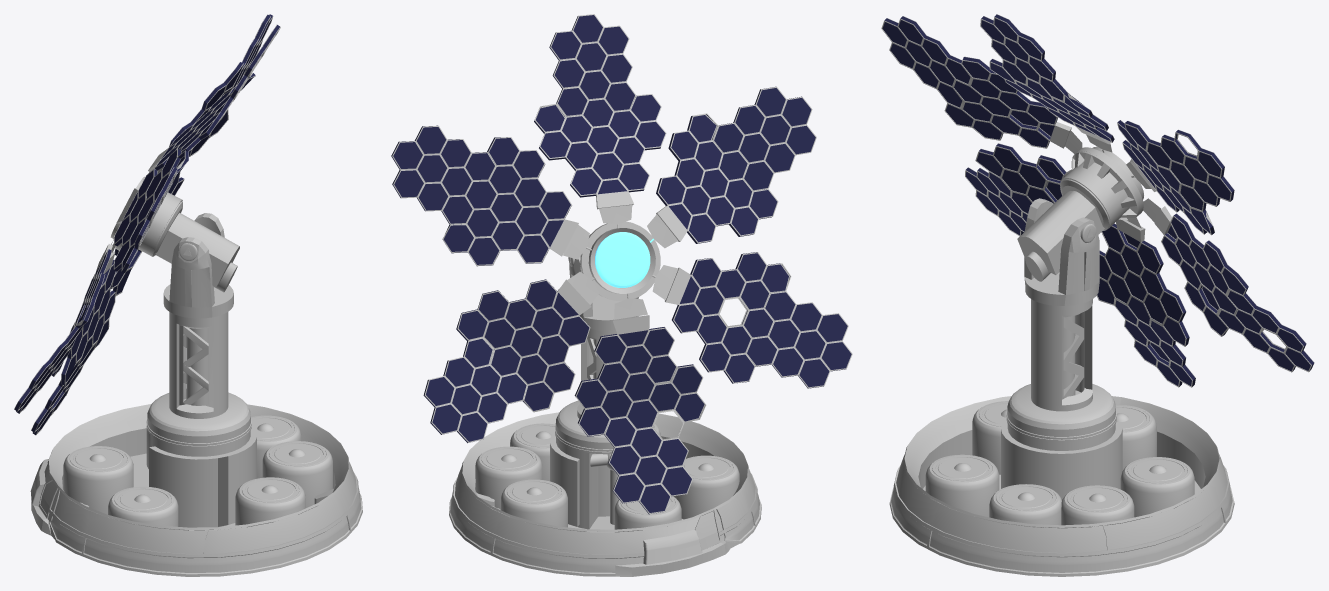
The model's file is energias.glb.
3 views of the same model, side by side, from view 1: azimuth 30°, elevation 25°; view 2: azimuth 150°, elevation 25°; view 3: azimuth 270°, elevation 25° (orthographic). The views are drawn at different scales.
Visible parts, largest first — view 1: Cylinder.014; view 2: Cylinder.014; view 3: Cylinder.014.
Boxes of the visible parts, x1=… form: Cylinder.014: x1=14, y1=14, x2=362, y2=576; Cylinder.014: x1=391, y1=14, x2=852, y2=576; Cylinder.014: x1=881, y1=14, x2=1314, y2=576.
Bounding box in the file's own units: 3.39 × 4.29 × 3.29.
